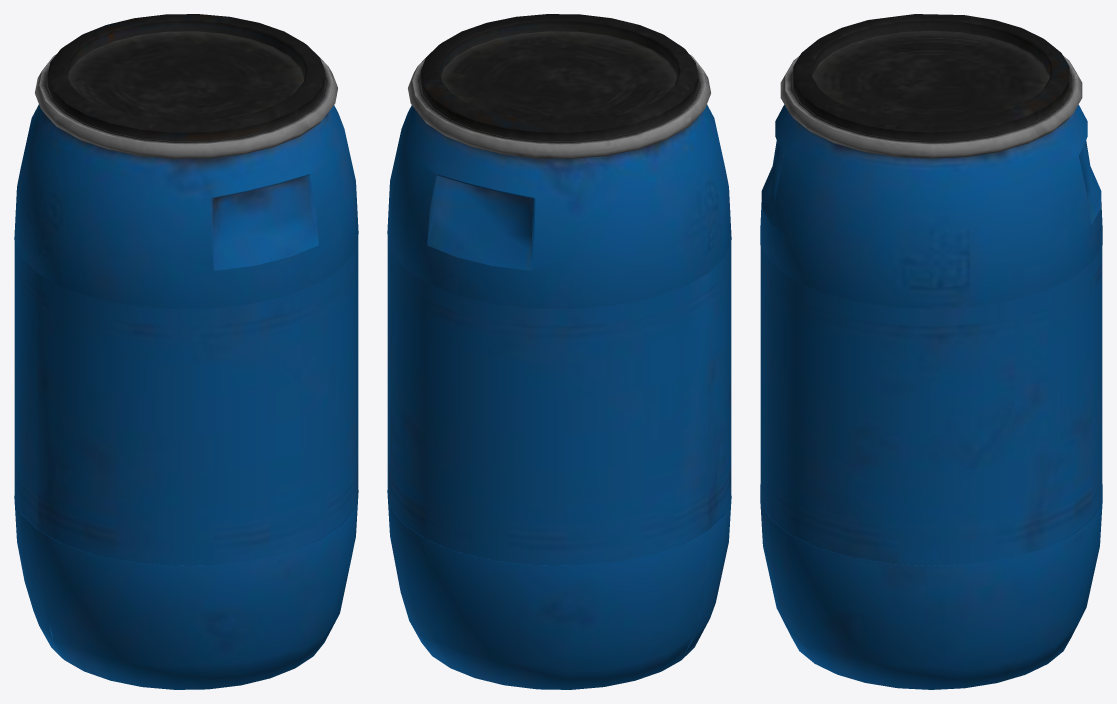
File: barrel_02.glb
The picture shows the model from 3 angles, left to right: view 1: azimuth 30°, elevation 25°; view 2: azimuth 150°, elevation 25°; view 3: azimuth 270°, elevation 25°; orthographic projection.
Parts seen in each view (by area): view 1: Barrel_02; view 2: Barrel_02; view 3: Barrel_02.
Part boxes in pixels (x1,y1,x2,y2): Barrel_02: [14, 14, 358, 689]; Barrel_02: [387, 14, 731, 689]; Barrel_02: [760, 14, 1102, 689].
Size of the model in its own units: 0.4882 by 0.88 by 0.4846.
Materials: 1 (1 with a texture image).
